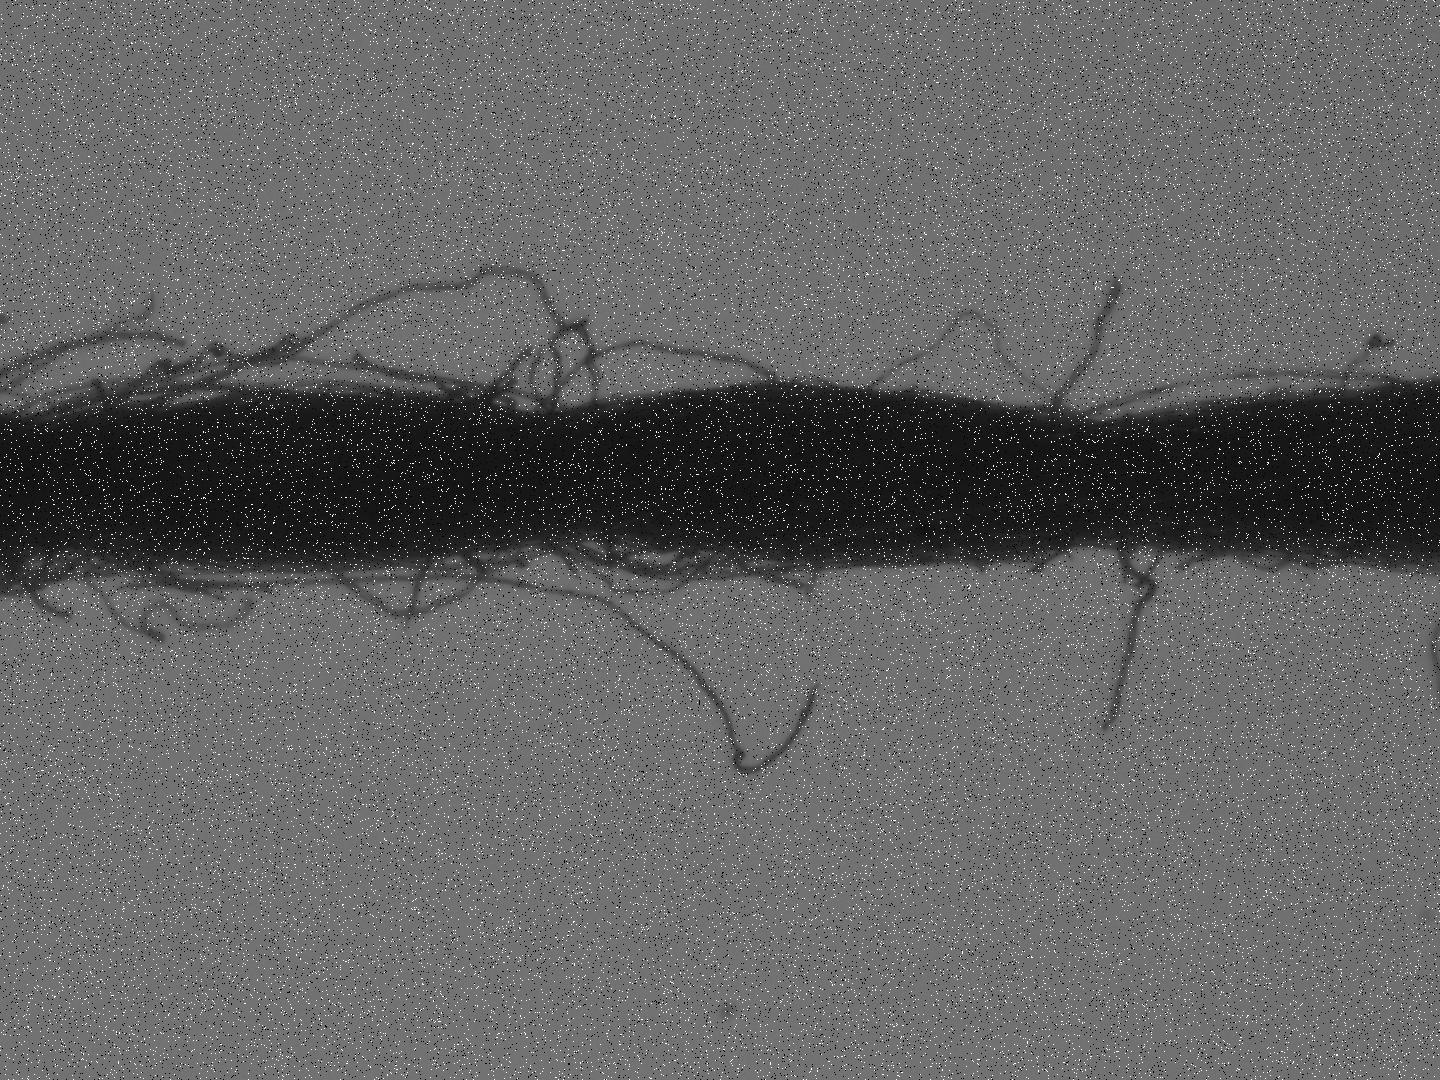loop_fiber: (1061, 362, 1407, 437), (523, 334, 782, 429), (567, 538, 850, 585), (314, 551, 488, 619), (48, 380, 263, 419), (8, 548, 177, 591), (1212, 535, 1320, 575)
protruding_fiber: (1090, 539, 1162, 742)
